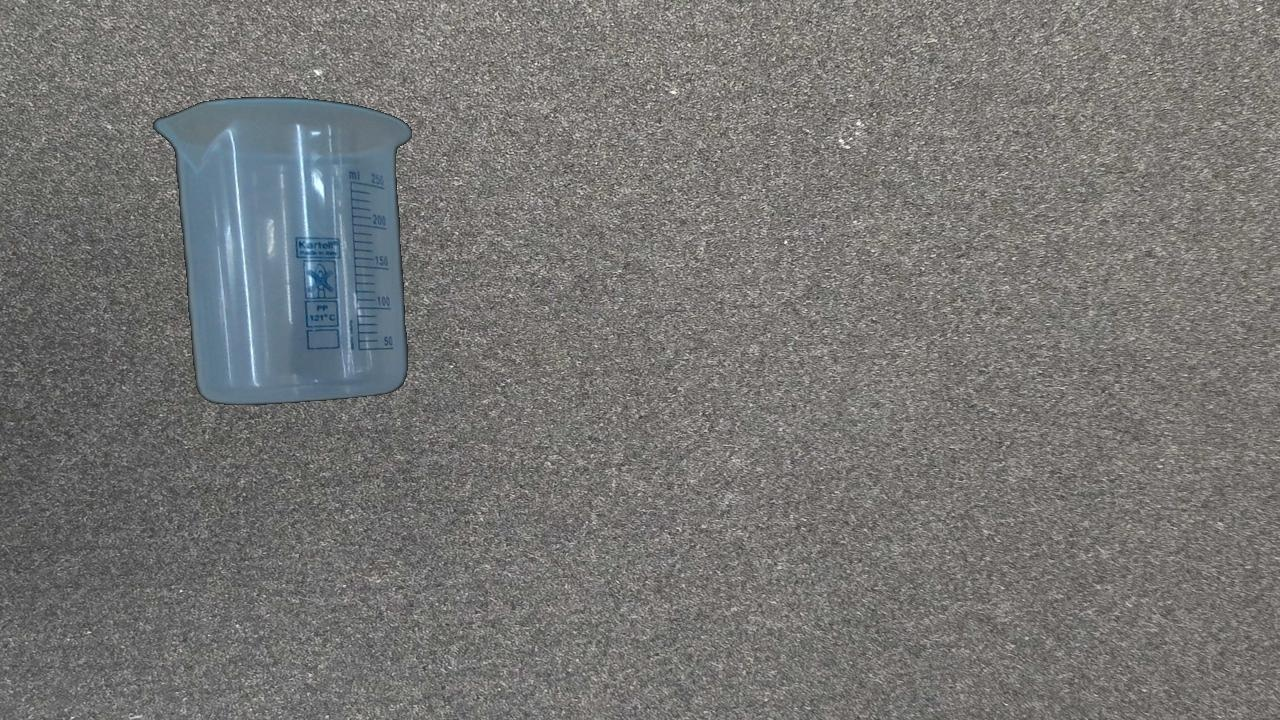becker: (152, 96, 411, 405)
